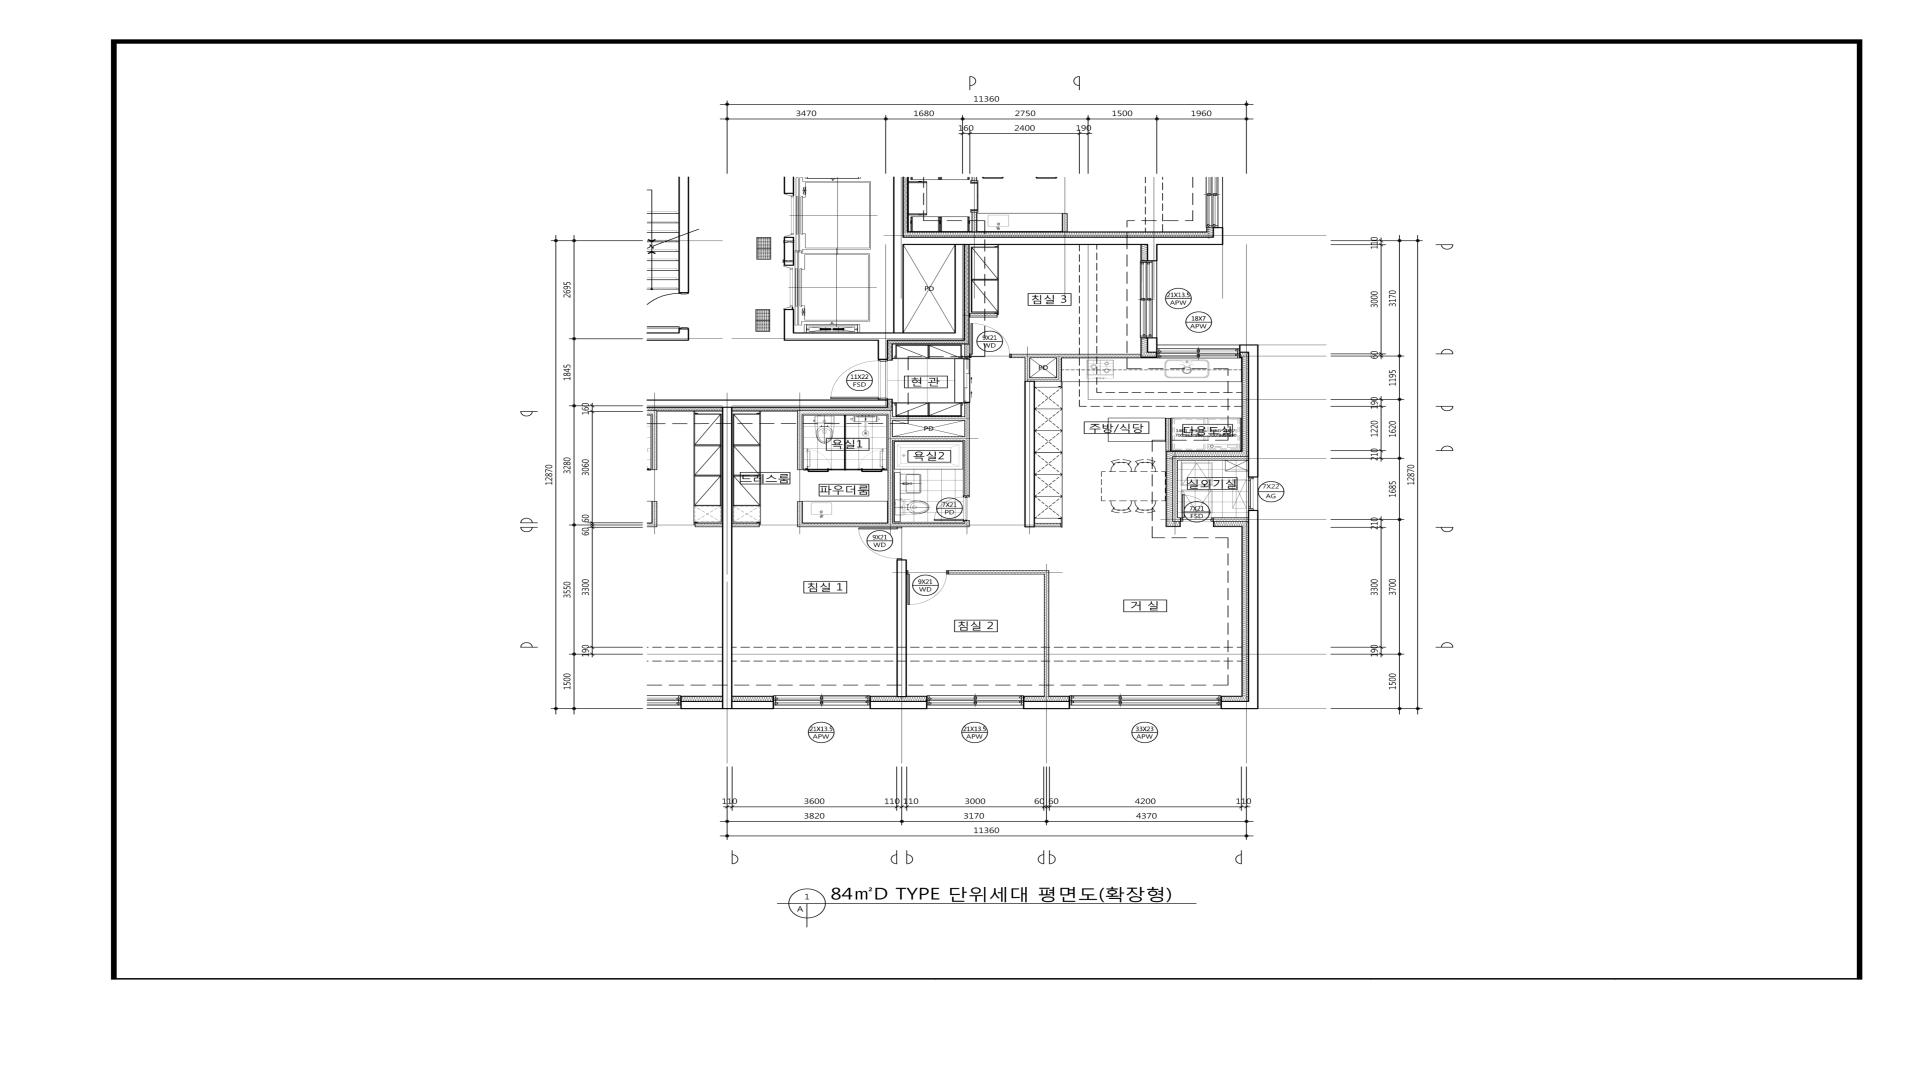door: (830, 360, 888, 400), (646, 293, 689, 329), (858, 527, 902, 560), (907, 570, 948, 605), (970, 323, 1011, 358), (934, 495, 970, 521), (1181, 494, 1213, 522), (861, 448, 888, 472), (803, 448, 829, 472), (964, 359, 970, 402)
wall: (722, 408, 732, 709), (1248, 510, 1259, 709), (893, 237, 1157, 245), (647, 400, 888, 408), (1024, 381, 1035, 527), (896, 559, 907, 697), (1248, 353, 1259, 478), (794, 333, 965, 341), (678, 177, 689, 293), (797, 520, 970, 527), (893, 245, 904, 333), (955, 245, 965, 333), (887, 415, 893, 523), (1044, 574, 1049, 697), (964, 402, 970, 496), (646, 328, 689, 341), (1172, 460, 1181, 522), (1011, 354, 1141, 358), (948, 570, 1049, 575), (797, 410, 893, 415), (869, 701, 927, 709), (1023, 701, 1070, 709), (893, 436, 964, 441), (732, 701, 774, 709), (797, 415, 803, 470), (784, 309, 794, 341), (1172, 456, 1248, 460), (784, 237, 794, 266), (893, 416, 964, 420), (1221, 701, 1248, 709), (1165, 418, 1171, 452), (878, 341, 888, 360), (1147, 337, 1158, 353), (1239, 344, 1258, 353), (784, 177, 794, 194), (1147, 245, 1157, 261), (1213, 518, 1248, 522), (797, 501, 803, 523), (1030, 377, 1062, 381), (1025, 358, 1030, 381), (1056, 358, 1062, 377), (969, 313, 997, 317), (844, 415, 846, 469), (732, 523, 759, 527), (1035, 523, 1061, 527), (964, 344, 970, 359), (829, 469, 861, 470)
window: (1070, 695, 1221, 709), (774, 695, 870, 709), (927, 695, 1023, 709), (1140, 261, 1157, 338), (1158, 344, 1239, 358), (1248, 477, 1259, 510)
